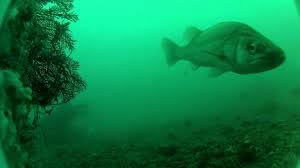suzuki: (159, 14, 289, 80)
